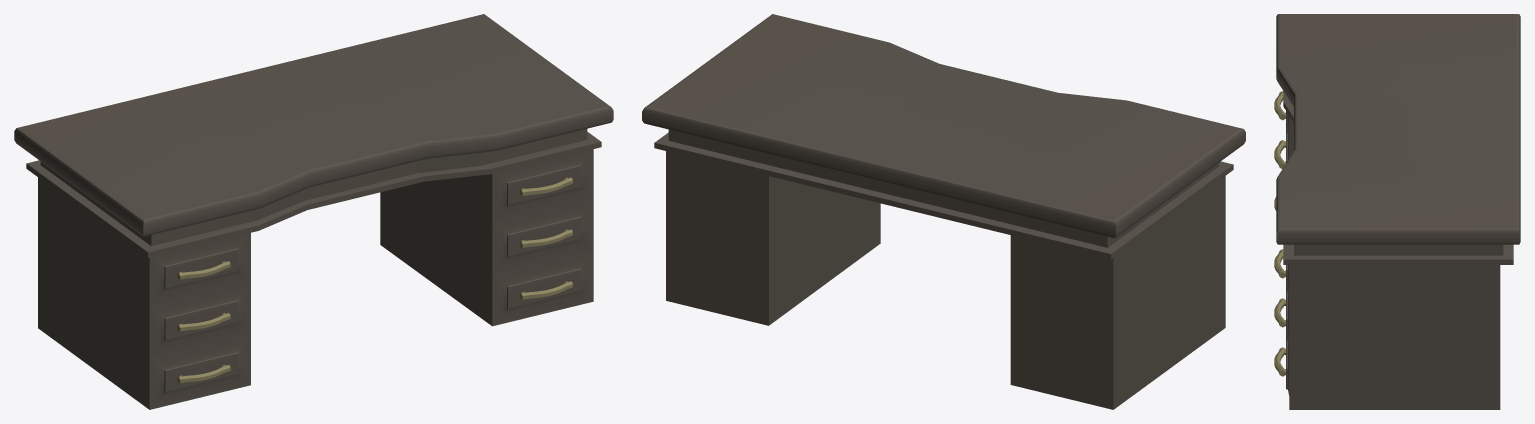
Rendered from desk.fbx.
The picture shows the model from 3 angles, left to right: view 1: azimuth 30°, elevation 25°; view 2: azimuth 150°, elevation 25°; view 3: azimuth 270°, elevation 25°; orthographic projection. The views are drawn at different scales.
Visible parts, largest first — view 1: pCube1; view 2: pCube1; view 3: pCube1.
Boxes of the visible parts, left/top/right/bottom form: pCube1: left=14, top=14, right=613, bottom=409; pCube1: left=642, top=14, right=1245, bottom=409; pCube1: left=1276, top=14, right=1520, bottom=409.
Bounding box in the file's own units: 10.12 × 4.05 × 4.85.
